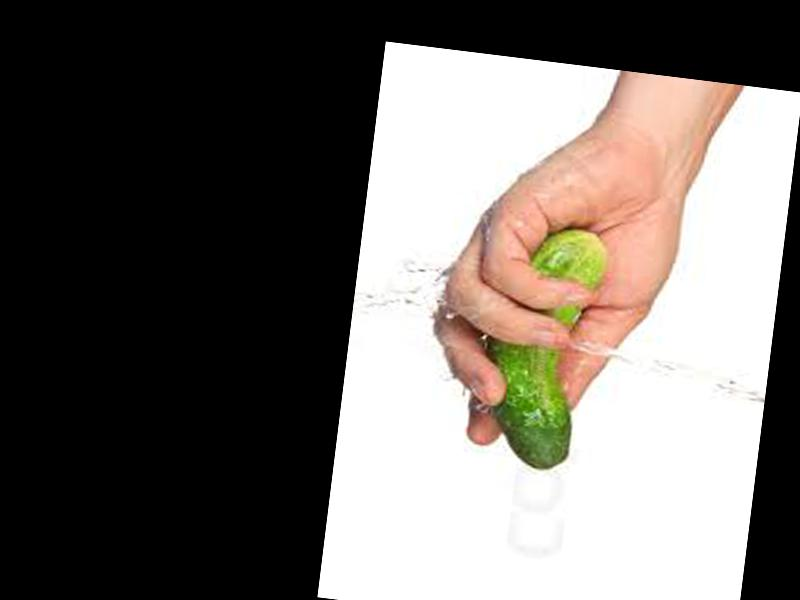Cucumber: (479, 222, 606, 474)
